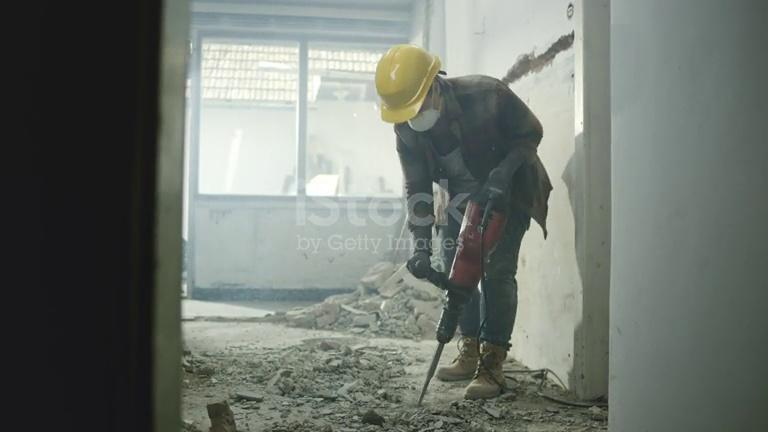helmet: (373, 44, 441, 125)
mask: (402, 107, 439, 131)
person: (374, 44, 552, 401)
